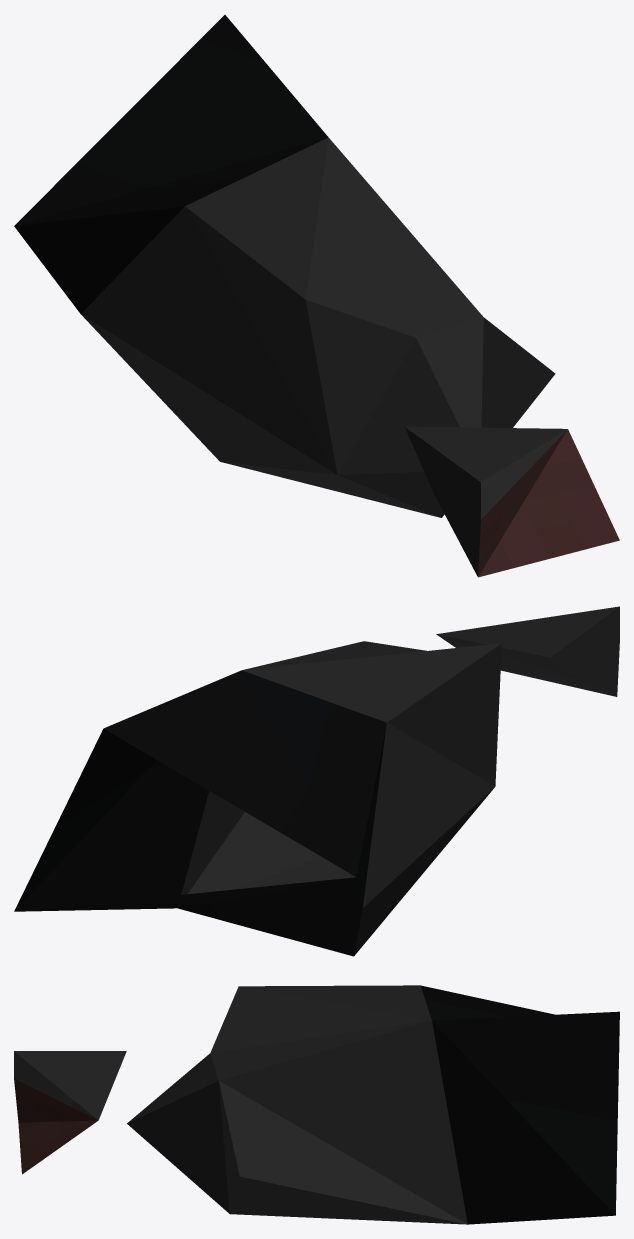
File: zcjyz003-geode.glb
3 renders of one model, top to bottom at view 1: azimuth 30°, elevation 25°; view 2: azimuth 150°, elevation 25°; view 3: azimuth 270°, elevation 25°, orthographic. The views are drawn at different scales.
Visible parts, largest first — view 1: Node; view 2: Node; view 3: Node.
Part boxes in pixels (x1,y1,x2,y2): Node: (14,15,619,577); Node: (14,606,619,956); Node: (14,985,619,1224).
Bounding box in the file's own units: 0.099 × 0.0862 × 0.2042.
1 material, 1 textured.
